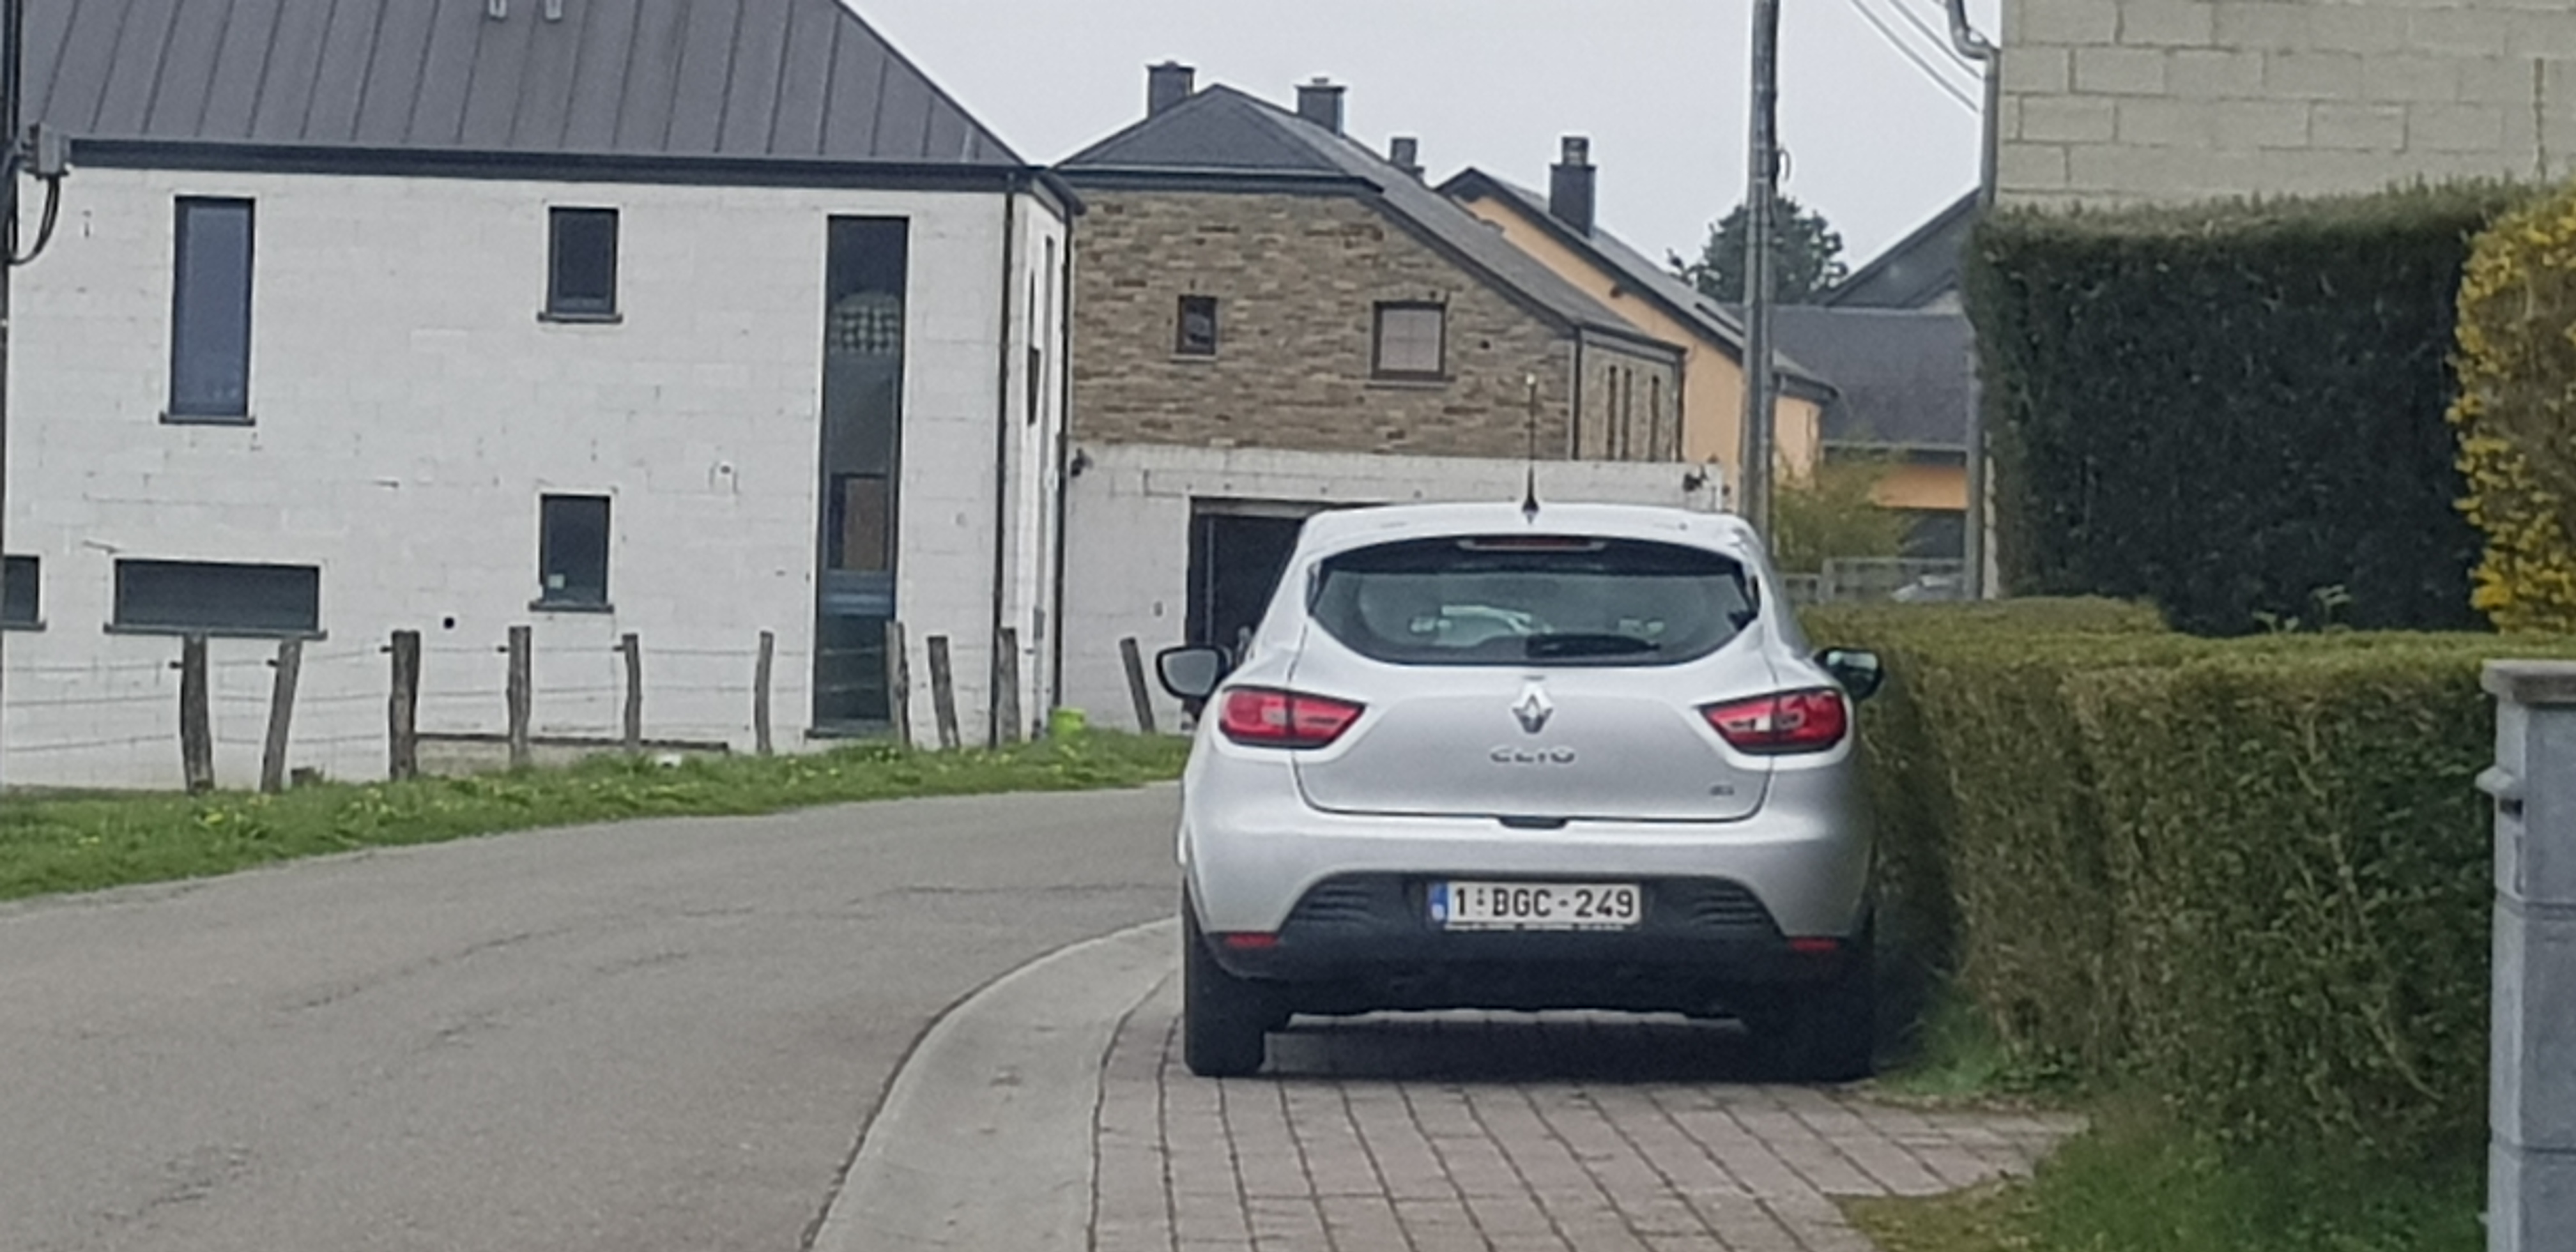licenceplate: (1423, 874, 1640, 925)
